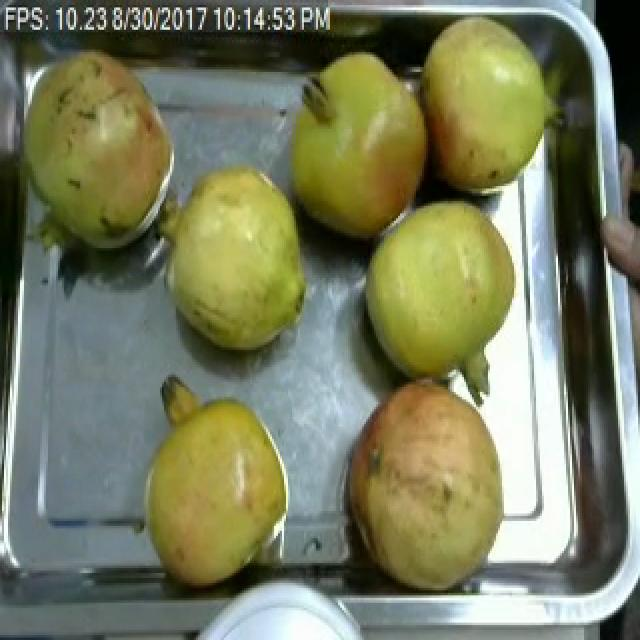fruit: (336, 362, 514, 600), (6, 35, 184, 260), (124, 374, 300, 596), (150, 148, 320, 370), (354, 188, 526, 400), (272, 32, 434, 251), (410, 8, 564, 204)
